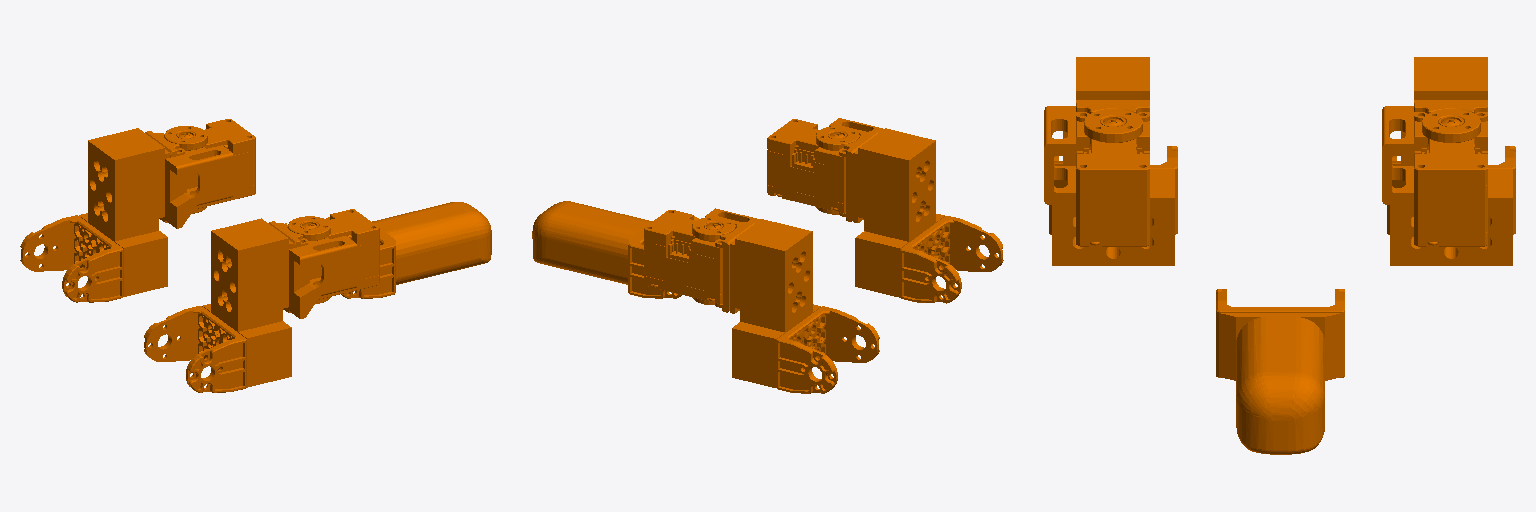
robot.urdf — onshape:
<robot name="onshape">
  <link name="palm_lower">
    <inertial>
      <origin xyz="0.0 0.0 0.0" rpy="0.0 -0.0 0.0"/>
      <mass value="0.237"/>
      <inertia ixx="0.000354094" ixy="-1.193e-06" ixz="-2.445e-06" iyy="0.000260915" iyz="-2.905e-06" izz="0.000529257"/>
    </inertial>
    <visual>
      <geometry>
        <mesh filename="../assets/leap/leap_hand/palm_lower.stl"/>
      </geometry>
      <origin xyz="-0.020095249652862544 0.025757756134899473 -0.034722403578460216" rpy="0.0 -0.0 0.0"/>
      <material name="palm_lower_material">
        <color rgba="0.6039215686274509 0.14901960784313725 0.14901960784313725 1.0"/>
      </material>
    </visual>
    <collision>
      <geometry>
        <mesh filename="../assets/leap/leap_hand/palm_lower.stl"/>
      </geometry>
      <origin xyz="-0.020095249652862544 0.025757756134899473 -0.034722403578460216" rpy="0.0 -0.0 0.0"/>
    </collision>
  </link>
  <link name="mcp_joint_long">
    <inertial>
      <origin xyz="0.0 0.0 0.0" rpy="0.0 -0.0 0.0"/>
      <mass value="0.044"/>
      <inertia ixx="1.1499e-05" ixy="3.049e-06" ixz="1.21e-07" iyy="7.796e-06" iyz="1.12e-07" izz="1.4759e-05"/>
    </inertial>
    <visual>
      <geometry>
        <mesh filename="custom_models/mcp_joint_long.stl"/>
      </geometry>
      <origin xyz="0.008406902261174496 0.0077662438597169954 0.014657354985032912" rpy="1.6375789613221e-15 -1.021047330249102e-30 1.7177968783327987e-31"/>
      <material name="mcp_joint_material">
        <color rgba="0.878 0.467 0.0 1.0"/>
      </material>
    </visual>
    <collision>
      <geometry>
        <mesh filename="custom_models/mcp_joint_long.stl"/>
      </geometry>
      <origin xyz="0.008406902261174496 0.0077662438597169954 0.014657354985032912" rpy="1.6375789613221e-15 -1.021047330249102e-30 1.7177968783327987e-31"/>
    </collision>
  </link>
  <link name="pip">
    <inertial>
      <origin xyz="0.0 0.0 0.0" rpy="0.0 -0.0 0.0"/>
      <mass value="0.032"/>
      <inertia ixx="4.798e-06" ixy="1.2e-08" ixz="4e-09" iyy="2.862e-06" iyz="1.1e-08" izz="4.234e-06"/>
    </inertial>
    <visual>
      <geometry>
        <mesh filename="../assets/leap/leap_hand/pip.stl"/>
      </geometry>
      <origin xyz="0.009643363092271328 0.0002999999999999895 0.0007840340104173765" rpy="-1.5707963267948966 -1.5707963267948963 0.0"/>
      <material name="pip_material">
        <color rgba="0.7490196078431373 0.7490196078431373 0.7490196078431373 1.0"/>
      </material>
    </visual>
    <collision>
      <geometry>
        <mesh filename="../assets/leap/leap_hand/pip.stl"/>
      </geometry>
      <origin xyz="0.009643363092271328 0.0002999999999999895 0.0007840340104173765" rpy="-1.5707963267948966 -1.5707963267948963 0.0"/>
    </collision>
  </link>
  <link name="dip">
    <inertial>
      <origin xyz="0.0 0.0 0.0" rpy="0.0 -0.0 0.0"/>
      <mass value="0.037"/>
      <inertia ixx="5.542e-06" ixy="-6.07e-07" ixz="-1.7e-08" iyy="5.727e-06" iyz="-2.3e-08" izz="6.682e-06"/>
    </inertial>
    <visual>
      <geometry>
        <mesh filename="../assets/leap/leap_hand/dip.stl"/>
      </geometry>
      <origin xyz="0.021133352895225003 -0.00843211914670488 0.00978508816209524" rpy="-3.141592653589793 4.507511124216441e-32 4.439548105392361e-32"/>
      <material name="dip_material">
        <color rgba="0.8666666666666667 0.8666666666666667 0.050980392156862744 1.0"/>
      </material>
    </visual>
    <collision>
      <geometry>
        <mesh filename="../assets/leap/leap_hand/dip.stl"/>
      </geometry>
      <origin xyz="0.021133352895225003 -0.00843211914670488 0.00978508816209524" rpy="-3.141592653589793 4.507511124216441e-32 4.439548105392361e-32"/>
    </collision>
  </link>
  <link name="fingertip">
    <inertial>
      <origin xyz="0.0 0.0 0.0" rpy="0.0 -0.0 0.0"/>
      <mass value="0.016"/>
      <inertia ixx="3.368e-06" ixy="1.15e-07" ixz="0.0" iyy="1.556e-06" iyz="0.0" izz="2.863e-06"/>
    </inertial>
    <visual>
      <geometry>
        <mesh filename="../assets/leap/leap_hand/fingertip.stl"/>
      </geometry>
      <origin xyz="0.013286424108533503 -0.006114238386541987 0.014499999999999498" rpy="3.141592653589793 1.1993117970061735e-33 4.439548105392361e-32"/>
      <material name="fingertip_material">
        <color rgba="0.8666666666666667 0.8666666666666667 0.050980392156862744 1.0"/>
      </material>
    </visual>
    <collision>
      <geometry>
        <mesh filename="../assets/leap/leap_hand/fingertip.stl"/>
      </geometry>
      <origin xyz="0.013286424108533503 -0.006114238386541987 0.014499999999999498" rpy="3.141592653589793 1.1993117970061735e-33 4.439548105392361e-32"/>
    </collision>
  </link>
  <link name="pip_4">
    <inertial>
      <origin xyz="0.0 0.0 0.0" rpy="0.0 -0.0 0.0"/>
      <mass value="0.032"/>
      <inertia ixx="4.798e-06" ixy="1.2e-08" ixz="4e-09" iyy="2.862e-06" iyz="1.1e-08" izz="4.234e-06"/>
    </inertial>
    <visual>
      <geometry>
        <mesh filename="../assets/leap/leap_hand/pip.stl"/>
      </geometry>
      <origin xyz="-0.005356636907728671 0.0002999999999999999 0.0007840340104173782" rpy="-1.5707963267948966 -1.5707963267948963 0.0"/>
      <material name="pip_material">
        <color rgba="0.7490196078431373 0.7490196078431373 0.7490196078431373 1.0"/>
      </material>
    </visual>
    <collision>
      <geometry>
        <mesh filename="../assets/leap/leap_hand/pip.stl"/>
      </geometry>
      <origin xyz="-0.005356636907728671 0.0002999999999999999 0.0007840340104173782" rpy="-1.5707963267948966 -1.5707963267948963 0.0"/>
    </collision>
  </link>
  <link name="thumb_pip">
    <inertial>
      <origin xyz="0.0 0.0 0.0" rpy="0.0 -0.0 0.0"/>
      <mass value="0.003"/>
      <inertia ixx="5.93e-07" ixy="0.0" ixz="0.0" iyy="5.49e-07" iyz="0.0" izz="2.24e-07"/>
    </inertial>
    <visual>
      <geometry>
        <mesh filename="../assets/leap/leap_hand/thumb_pip.stl"/>
      </geometry>
      <origin xyz="0.011961920770611187 -5.30825383648903e-16 -0.0158526489566642" rpy="1.5707963267948966 1.6050198443300153e-46 -3.9204996250525193e-59"/>
      <material name="thumb_pip_material">
        <color rgba="0.8666666666666667 0.8666666666666667 0.050980392156862744 1.0"/>
      </material>
    </visual>
    <collision>
      <geometry>
        <mesh filename="../assets/leap/leap_hand/thumb_pip.stl"/>
      </geometry>
      <origin xyz="0.011961920770611187 -5.30825383648903e-16 -0.0158526489566642" rpy="1.5707963267948966 1.6050198443300153e-46 -3.9204996250525193e-59"/>
    </collision>
  </link>
  <link name="thumb_dip">
    <inertial>
      <origin xyz="0.0 0.0 0.0" rpy="0.0 -0.0 0.0"/>
      <mass value="0.038"/>
      <inertia ixx="8.474e-06" ixy="2.41e-07" ixz="2.6e-08" iyy="3.841e-06" iyz="2.5e-08" izz="7.679e-06"/>
    </inertial>
    <visual>
      <geometry>
        <mesh filename="../assets/leap/leap_hand/thumb_dip.stl"/>
      </geometry>
      <origin xyz="0.043968715707239175 0.0579529529737092 -0.008628676449369476" rpy="1.94289029309401e-16 3.27515792264422e-15 1.112375852965736e-46"/>
      <material name="thumb_dip_material">
        <color rgba="0.8666666666666667 0.8666666666666667 0.050980392156862744 1.0"/>
      </material>
    </visual>
    <collision>
      <geometry>
        <mesh filename="../assets/leap/leap_hand/thumb_dip.stl"/>
      </geometry>
      <origin xyz="0.043968715707239175 0.0579529529737092 -0.008628676449369476" rpy="1.94289029309401e-16 3.27515792264422e-15 1.112375852965736e-46"/>
    </collision>
  </link>
  <link name="thumb_fingertip">
    <inertial>
      <origin xyz="0.0 0.0 0.0" rpy="0.0 -0.0 0.0"/>
      <mass value="0.049"/>
      <inertia ixx="2.0372e-05" ixy="-4.89e-07" ixz="-3e-08" iyy="4.336e-06" iyz="-9.7e-08" izz="1.9845e-05"/>
    </inertial>
    <visual>
      <geometry>
        <mesh filename="../assets/leap/leap_hand/thumb_fingertip.stl"/>
      </geometry>
      <origin xyz="0.06255953846266739 0.07845968291139699 0.048992911807332215" rpy="4.379057701015637e-47 -3.33066907387547e-16 1.2042408677791935e-46"/>
      <material name="thumb_fingertip_material">
        <color rgba="0.6039215686274509 0.14901960784313725 0.14901960784313725 1.0"/>
      </material>
    </visual>
    <collision>
      <geometry>
        <mesh filename="../assets/leap/leap_hand/thumb_fingertip.stl"/>
      </geometry>
      <origin xyz="0.06255953846266739 0.07845968291139699 0.048992911807332215" rpy="4.379057701015637e-47 -3.33066907387547e-16 1.2042408677791935e-46"/>
    </collision>
  </link>
  <link name="mcp_joint_2">
    <inertial>
      <origin xyz="0.0 0.0 0.0" rpy="0.0 -0.0 0.0"/>
      <mass value="0.044"/>
      <inertia ixx="1.1499e-05" ixy="3.049e-06" ixz="1.21e-07" iyy="7.796e-06" iyz="1.12e-07" izz="1.4759e-05"/>
    </inertial>
    <visual>
      <geometry>
        <mesh filename="../assets/leap/leap_hand/mcp_joint.stl"/>
      </geometry>
      <origin xyz="0.008406902261174496 0.0077662438597169954 0.014657354985032914" rpy="1.6375789613221e-15 -1.0076465469034e-30 2.1209300131419907e-61"/>
      <material name="mcp_joint_material">
        <color rgba="0.8666666666666667 0.8666666666666667 0.050980392156862744 1.0"/>
      </material>
    </visual>
    <collision>
      <geometry>
        <mesh filename="../assets/leap/leap_hand/mcp_joint.stl"/>
      </geometry>
      <origin xyz="0.008406902261174496 0.0077662438597169954 0.014657354985032914" rpy="1.6375789613221e-15 -1.0076465469034e-30 2.1209300131419907e-61"/>
    </collision>
  </link>
  <link name="pip_2">
    <inertial>
      <origin xyz="0.0 0.0 0.0" rpy="0.0 -0.0 0.0"/>
      <mass value="0.032"/>
      <inertia ixx="4.798e-06" ixy="1.2e-08" ixz="4e-09" iyy="2.862e-06" iyz="1.1e-08" izz="4.234e-06"/>
    </inertial>
    <visual>
      <geometry>
        <mesh filename="../assets/leap/leap_hand/pip.stl"/>
      </geometry>
      <origin xyz="0.009643363092271328 0.0002999999999999947 0.0007840340104173765" rpy="-1.5707963267948966 -1.5707963267948963 0.0"/>
      <material name="pip_material">
        <color rgba="0.7490196078431373 0.7490196078431373 0.7490196078431373 1.0"/>
      </material>
    </visual>
    <collision>
      <geometry>
        <mesh filename="../assets/leap/leap_hand/pip.stl"/>
      </geometry>
      <origin xyz="0.009643363092271328 0.0002999999999999947 0.0007840340104173765" rpy="-1.5707963267948966 -1.5707963267948963 0.0"/>
    </collision>
  </link>
  <link name="dip_2">
    <inertial>
      <origin xyz="0.0 0.0 0.0" rpy="0.0 -0.0 0.0"/>
      <mass value="0.037"/>
      <inertia ixx="5.542e-06" ixy="-6.07e-07" ixz="-1.7e-08" iyy="5.727e-06" iyz="-2.3e-08" izz="6.682e-06"/>
    </inertial>
    <visual>
      <geometry>
        <mesh filename="../assets/leap/leap_hand/dip.stl"/>
      </geometry>
      <origin xyz="0.021133352895225003 -0.008432119146704865 0.009785088162095237" rpy="-3.141592653589793 2.1146933785271956e-32 1.4408183216511869e-31"/>
      <material name="dip_material">
        <color rgba="0.8666666666666667 0.8666666666666667 0.050980392156862744 1.0"/>
      </material>
    </visual>
    <collision>
      <geometry>
        <mesh filename="../assets/leap/leap_hand/dip.stl"/>
      </geometry>
      <origin xyz="0.021133352895225003 -0.008432119146704865 0.009785088162095237" rpy="-3.141592653589793 2.1146933785271956e-32 1.4408183216511869e-31"/>
    </collision>
  </link>
  <link name="fingertip_2_long">
    <inertial>
      <origin xyz="0.0 0.0 0.0" rpy="0.0 -0.0 0.0"/>
      <mass value="0.016"/>
      <inertia ixx="3.368e-06" ixy="1.15e-07" ixz="0.0" iyy="1.556e-06" iyz="0.0" izz="2.863e-06"/>
    </inertial>
    <visual>
      <geometry>
        <mesh filename="custom_models/fingertip_long.stl"/>
      </geometry>
      <origin xyz="0.013286424108533496 -0.006114238386542001 0.014499999999999496" rpy="3.141592653589793 -4.317959788283594e-33 1.4408183216511869e-31"/>
      <material name="fingertip_material">
        <color rgba="0.878 0.467 0.0 1.0"/>
      </material>
    </visual>
    <collision>
      <geometry>
        <mesh filename="custom_models/fingertip_long.stl"/>
      </geometry>
      <origin xyz="0.013286424108533496 -0.006114238386542001 0.014499999999999496" rpy="3.141592653589793 -4.317959788283594e-33 1.4408183216511869e-31"/>
    </collision>
  </link>
  <link name="mcp_joint_3_long">
    <inertial>
      <origin xyz="0.0 0.0 0.0" rpy="0.0 -0.0 0.0"/>
      <mass value="0.044"/>
      <inertia ixx="1.1499e-05" ixy="3.049e-06" ixz="1.21e-07" iyy="7.796e-06" iyz="1.12e-07" izz="1.4759e-05"/>
    </inertial>
    <visual>
      <geometry>
        <mesh filename="custom_models/mcp_joint_long.stl"/>
      </geometry>
      <origin xyz="0.0084069022611745 0.007766243859716996 0.014657354985032914" rpy="1.6375789613221e-15 -1.0059504988632627e-30 5.729641584552035e-32"/>
      <material name="mcp_joint_material">
        <color rgba="0.878 0.467 0.0 1.0"/>
      </material>
    </visual>
    <collision>
      <geometry>
        <mesh filename="custom_models/mcp_joint_long.stl"/>
      </geometry>
      <origin xyz="0.0084069022611745 0.007766243859716996 0.014657354985032914" rpy="1.6375789613221e-15 -1.0059504988632627e-30 5.729641584552035e-32"/>
    </collision>
  </link>
  <link name="pip_3">
    <inertial>
      <origin xyz="0.0 0.0 0.0" rpy="0.0 -0.0 0.0"/>
      <mass value="0.032"/>
      <inertia ixx="4.798e-06" ixy="1.2e-08" ixz="4e-09" iyy="2.862e-06" iyz="1.1e-08" izz="4.234e-06"/>
    </inertial>
    <visual>
      <geometry>
        <mesh filename="../assets/leap/leap_hand/pip.stl"/>
      </geometry>
      <origin xyz="0.009643363092271331 0.00029999999999998084 0.0007840340104173765" rpy="-1.5707963267948966 -1.5707963267948963 0.0"/>
      <material name="pip_material">
        <color rgba="0.7490196078431373 0.7490196078431373 0.7490196078431373 1.0"/>
      </material>
    </visual>
    <collision>
      <geometry>
        <mesh filename="../assets/leap/leap_hand/pip.stl"/>
      </geometry>
      <origin xyz="0.009643363092271331 0.00029999999999998084 0.0007840340104173765" rpy="-1.5707963267948966 -1.5707963267948963 0.0"/>
    </collision>
  </link>
  <link name="dip_3">
    <inertial>
      <origin xyz="0.0 0.0 0.0" rpy="0.0 -0.0 0.0"/>
      <mass value="0.037"/>
      <inertia ixx="5.542e-06" ixy="-6.07e-07" ixz="-1.7e-08" iyy="5.727e-06" iyz="-2.3e-08" izz="6.682e-06"/>
    </inertial>
    <visual>
      <geometry>
        <mesh filename="../assets/leap/leap_hand/dip.stl"/>
      </geometry>
      <origin xyz="0.021133352895225006 -0.008432119146704865 0.009785088162095237" rpy="-3.141592653589793 -1.4095651113919093e-33 1.5565411607615035e-32"/>
      <material name="dip_material">
        <color rgba="0.8666666666666667 0.8666666666666667 0.050980392156862744 1.0"/>
      </material>
    </visual>
    <collision>
      <geometry>
        <mesh filename="../assets/leap/leap_hand/dip.stl"/>
      </geometry>
      <origin xyz="0.021133352895225006 -0.008432119146704865 0.009785088162095237" rpy="-3.141592653589793 -1.4095651113919093e-33 1.5565411607615035e-32"/>
    </collision>
  </link>
  <link name="fingertip_3">
    <inertial>
      <origin xyz="0.0 0.0 0.0" rpy="0.0 -0.0 0.0"/>
      <mass value="0.016"/>
      <inertia ixx="3.368e-06" ixy="1.15e-07" ixz="0.0" iyy="1.556e-06" iyz="0.0" izz="2.863e-06"/>
    </inertial>
    <visual>
      <geometry>
        <mesh filename="../assets/leap/leap_hand/fingertip.stl"/>
      </geometry>
      <origin xyz="0.013286424108533501 -0.006114238386541987 0.0144999999999995" rpy="3.141592653589793 8.61707169505754e-33 1.5565411607615035e-32"/>
      <material name="fingertip_material">
        <color rgba="0.8666666666666667 0.8666666666666667 0.050980392156862744 1.0"/>
      </material>
    </visual>
    <collision>
      <geometry>
        <mesh filename="../assets/leap/leap_hand/fingertip.stl"/>
      </geometry>
      <origin xyz="0.013286424108533501 -0.006114238386541987 0.0144999999999995" rpy="3.141592653589793 8.61707169505754e-33 1.5565411607615035e-32"/>
    </collision>
  </link>
  <joint name="1" type="revolute">
    <parent link="palm_lower"/>
    <child link="mcp_joint_long"/>
    <origin xyz="-0.007095249652862546 0.023057756134899472 -0.01872240357846022" rpy="1.570796326794895 1.5707963267948946 0.0"/>
    <axis xyz="0.0 0.0 -1.0"/>
    <limit effort="0.95" velocity="8.48" lower="-0.314" upper="2.23"/>
  </joint>
  <joint name="0" type="revolute">
    <parent link="mcp_joint_long"/>
    <child link="pip"/>
    <origin xyz="-0.012200000000000007713 0.053099999999999994982 0.014500000000000000736" rpy="-1.5707963267948966 -1.0065212660796337e-15 1.5707963267948943"/>
    <axis xyz="0.0 0.0 -1.0"/>
    <limit effort="0.95" velocity="8.48" lower="-1.047" upper="1.047"/>
  </joint>
  <joint name="2" type="revolute">
    <parent link="pip"/>
    <child link="dip"/>
    <origin xyz="0.014999999999999968 0.014299999999999905 -0.012999999999999824" rpy="1.570796326794896 -1.5707963267948963 0.0"/>
    <axis xyz="0.0 0.0 -1.0"/>
    <limit effort="0.95" velocity="8.48" lower="-0.506" upper="1.885"/>
  </joint>
  <joint name="3" type="revolute">
    <parent link="dip"/>
    <child link="fingertip"/>
    <origin xyz="-4.088058249557269e-09 -0.03610000421036737 0.0002000000000000786" rpy="4.5935029425113685e-17 -2.8730071914463795e-16 4.439548105392361e-32"/>
    <axis xyz="0.0 0.0 -1.0"/>
    <limit effort="0.95" velocity="8.48" lower="-0.366" upper="2.042"/>
  </joint>
  <joint name="12" type="revolute">
    <parent link="palm_lower"/>
    <child link="pip_4"/>
    <origin xyz="-0.06939524965286253 -0.0012422438651005258 -0.021622403578460216" rpy="-8.238176646493942e-17 1.5707963267948957 0.0"/>
    <axis xyz="0.0 0.0 -1.0"/>
    <limit effort="0.95" velocity="8.48" lower="-0.349" upper="2.094"/>
  </joint>
  <joint name="13" type="revolute">
    <parent link="pip_4"/>
    <child link="thumb_pip"/>
    <origin xyz="-2.7755575615628914e-17 0.014300000000000005 -0.013000000000000012" rpy="1.570796326794896 -1.5707963267948963 0.0"/>
    <axis xyz="0.0 0.0 -1.0"/>
    <limit effort="0.95" velocity="8.48" lower="-0.47" upper="2.443"/>
  </joint>
  <joint name="14" type="revolute">
    <parent link="thumb_pip"/>
    <child link="thumb_dip"/>
    <origin xyz="0.0 0.014499999999999966 -0.017000000000000053" rpy="-1.5707963267948966 1.6050198443300131e-46 -1.9721522630516625e-31"/>
    <axis xyz="0.0 0.0 -1.0"/>
    <limit effort="0.95" velocity="8.48" lower="-1.2" upper="1.9"/>
  </joint>
  <joint name="15" type="revolute">
    <parent link="thumb_dip"/>
    <child link="thumb_fingertip"/>
    <origin xyz="-1.249000902703301e-16 0.046599999999999864 0.0001999999999999771" rpy="1.506395849149178e-44 5.423418723393526e-31 3.141592653589793"/>
    <axis xyz="0.0 0.0 -1.0"/>
    <limit effort="0.95" velocity="8.48" lower="-1.34" upper="1.88"/>
  </joint>
  <joint name="5" type="revolute">
    <parent link="palm_lower"/>
    <child link="mcp_joint_2"/>
    <origin xyz="-0.007095249652862546 -0.022392243865100525 -0.01872240357846022" rpy="1.570796326794895 1.5707963267948946 0.0"/>
    <axis xyz="0.0 0.0 -1.0"/>
    <limit effort="0.95" velocity="8.48" lower="-0.314" upper="2.23"/>
  </joint>
  <joint name="4" type="revolute">
    <parent link="mcp_joint_2"/>
    <child link="pip_2"/>
    <origin xyz="-0.012200000000000008 0.038099999999999995 0.0145" rpy="-1.5707963267948966 -1.0065212660796337e-15 1.5707963267948943"/>
    <axis xyz="0.0 0.0 -1.0"/>
    <limit effort="0.95" velocity="8.48" lower="-1.047" upper="1.047"/>
  </joint>
  <joint name="6" type="revolute">
    <parent link="pip_2"/>
    <child link="dip_2"/>
    <origin xyz="0.014999999999999968 0.014299999999999905 -0.012999999999999824" rpy="1.570796326794896 -1.5707963267948963 0.0"/>
    <axis xyz="0.0 0.0 -1.0"/>
    <limit effort="0.95" velocity="8.48" lower="-0.506" upper="1.885"/>
  </joint>
  <joint name="7" type="revolute">
    <parent link="dip_2"/>
    <child link="fingertip_2_long"/>
    <origin xyz="-4.088058249557269e-09 -0.03610000421036737 0.0002000000000000786" rpy="4.5935029425113685e-17 -2.8730071914463795e-16 4.439548105392361e-32"/>
    <axis xyz="0.0 0.0 -1.0"/>
    <limit effort="0.95" velocity="8.48" lower="-0.366" upper="2.042"/>
  </joint>
  <joint name="9" type="revolute">
    <parent link="palm_lower"/>
    <child link="mcp_joint_3_long"/>
    <origin xyz="-0.007095249652862546 -0.06784224386510052 -0.01872240357846022" rpy="1.570796326794895 1.5707963267948946 0.0"/>
    <axis xyz="0.0 0.0 -1.0"/>
    <limit effort="0.95" velocity="8.48" lower="-0.314" upper="2.23"/>
  </joint>
  <joint name="8" type="revolute">
    <parent link="mcp_joint_3_long"/>
    <child link="pip_3"/>
    <origin xyz="-0.012200000000000007713 0.053099999999999994982 0.014500000000000000736" rpy="-1.5707963267948966 -1.0065212660796337e-15 1.5707963267948943"/>
    <axis xyz="0.0 0.0 -1.0"/>
    <limit effort="0.95" velocity="8.48" lower="-1.047" upper="1.047"/>
  </joint>
  <joint name="10" type="revolute">
    <parent link="pip_3"/>
    <child link="dip_3"/>
    <origin xyz="0.014999999999999968 0.014299999999999905 -0.012999999999999824" rpy="1.570796326794896 -1.5707963267948963 0.0"/>
    <axis xyz="0.0 0.0 -1.0"/>
    <limit effort="0.95" velocity="8.48" lower="-0.506" upper="1.885"/>
  </joint>
  <joint name="11" type="revolute">
    <parent link="dip_3"/>
    <child link="fingertip_3"/>
    <origin xyz="-4.088058249557269e-09 -0.03610000421036737 0.0002000000000000786" rpy="4.5935029425113685e-17 -2.8730071914463795e-16 4.439548105392361e-32"/>
    <axis xyz="0.0 0.0 -1.0"/>
    <limit effort="0.95" velocity="8.48" lower="-0.366" upper="2.042"/>
  </joint>
</robot>

--- Facts derived from the render (not from the file) ---
The picture shows the robot from 3 angles, left to right: view 1: azimuth 30°, elevation 25°; view 2: azimuth 150°, elevation 25°; view 3: azimuth 270°, elevation 25°; orthographic projection.
Robot: onshape — 17 links, 16 joints (16 revolute); root link palm_lower; default pose: all joints at 0.
Visible links, largest first — view 1: mcp_joint_3_long, mcp_joint_long, fingertip_2_long; view 2: mcp_joint_3_long, mcp_joint_long, fingertip_2_long; view 3: mcp_joint_long, mcp_joint_3_long, fingertip_2_long.
Boxes of the visible links, x1,y1,x2,y2 form: mcp_joint_3_long: [144, 209, 379, 392]; mcp_joint_long: [20, 119, 255, 302]; fingertip_2_long: [326, 202, 491, 298]; mcp_joint_3_long: [767, 118, 1003, 303]; mcp_joint_long: [644, 208, 879, 393]; fingertip_2_long: [532, 201, 698, 298]; mcp_joint_long: [1382, 57, 1515, 265]; mcp_joint_3_long: [1044, 57, 1177, 265]; fingertip_2_long: [1216, 289, 1344, 454].
Size in the robot's own frame: 0.1616 by 0.1267 by 0.0549 metres.
3 mesh visuals loaded from 10 distinct referenced files (2 binary STL); not drawn: 14 (reference not matched to a file when rendering).